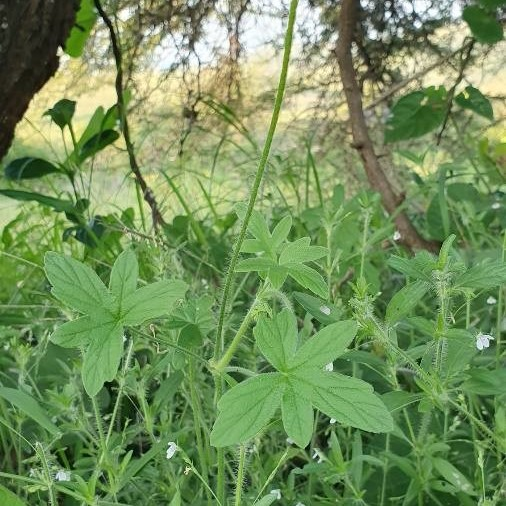obstacle: (50, 209, 479, 482)
